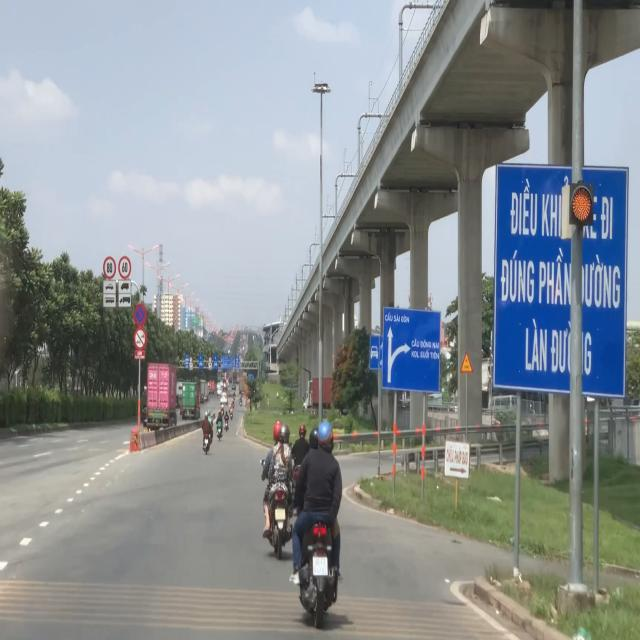Cam dung va do: (133, 300, 148, 328)
Nguy hiem: (458, 350, 475, 374)
Toc do toi da: (103, 254, 116, 279), (118, 255, 132, 277)
